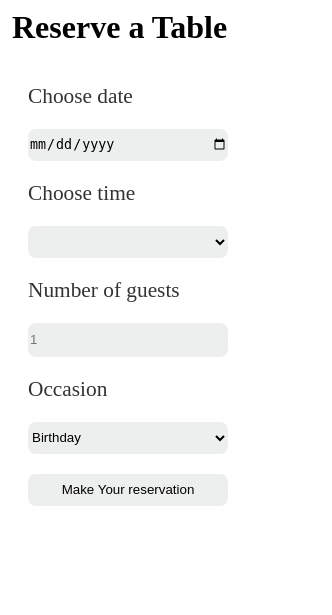
Test: Test form validation with invalid values
Type "2023-10-10" into the date field labelled "Choose date" at (128, 145), box x1=28 y1=129 x2=228 y2=161
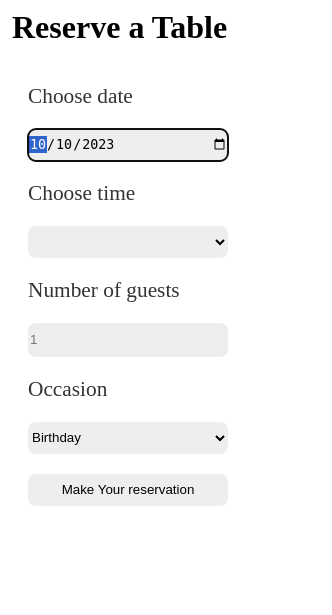
Type "0" into the number field labelled "Number of guests" at (128, 340), box x1=28 y1=323 x2=228 y2=357
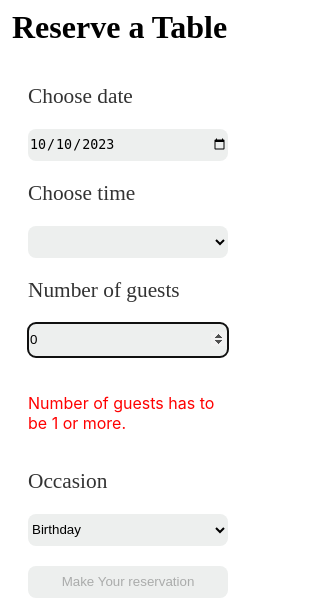
Expected: the text "Number of guests has to be 1 or more." is shown, x1=28 y1=393 x2=228 y2=433
Expected: the button is disabled, x1=28 y1=566 x2=228 y2=598
